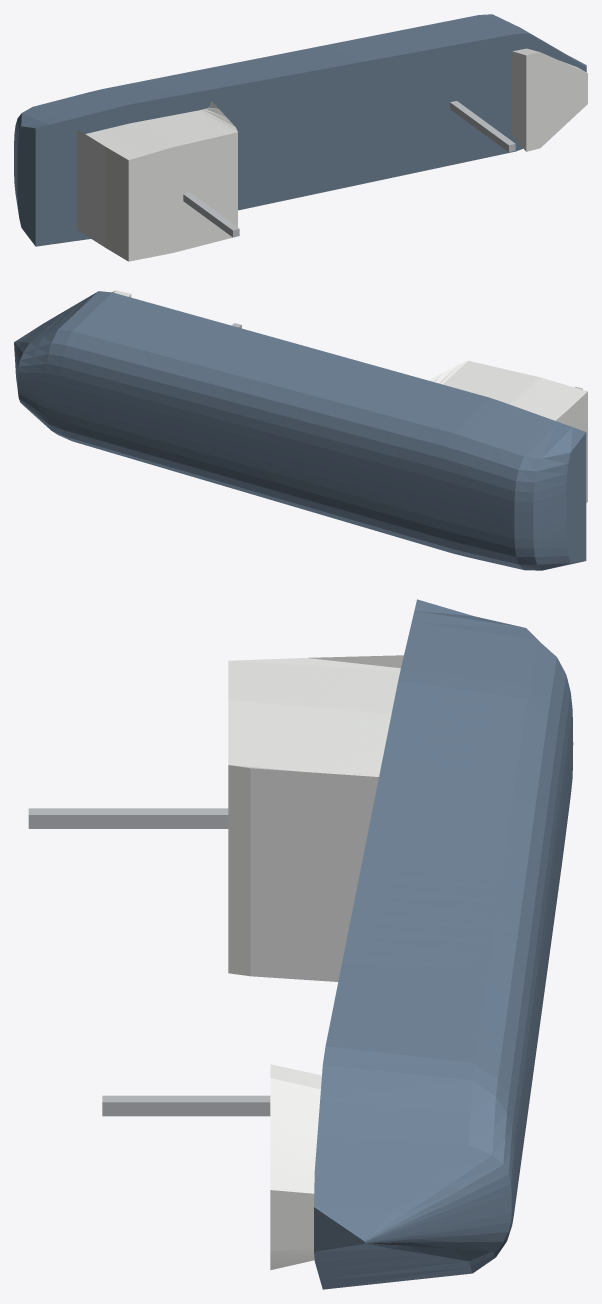
Rendered from loft-aground.glb.
3 renders of one model, top to bottom at view 1: azimuth 30°, elevation 25°; view 2: azimuth 150°, elevation 25°; view 3: azimuth 270°, elevation 25°, orthographic. The views are drawn at different scales.
Visible parts, largest first — view 1: aground; view 2: aground; view 3: aground.
Part boxes in pixels (x1=…): aground: x1=14, y1=14, x2=587, y2=261; aground: x1=14, y1=290, x2=587, y2=570; aground: x1=28, y1=599, x2=573, y2=1289.
Size of the model in its own units: 1.92 by 0.4395 by 0.8412.
